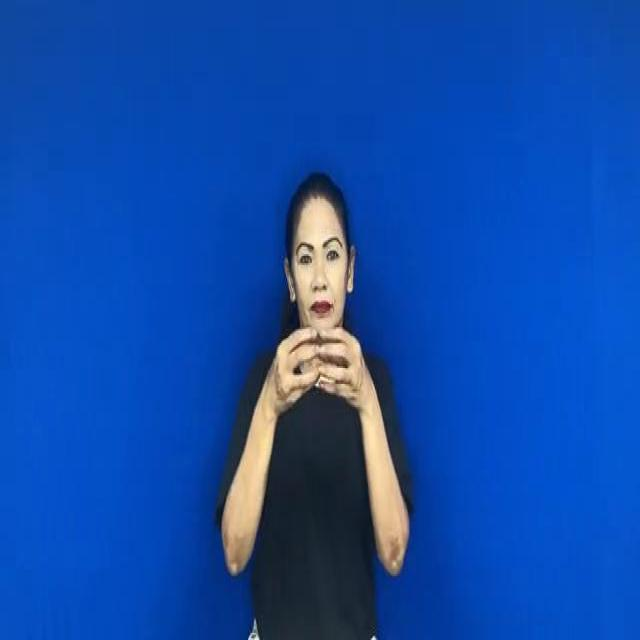egg: (260, 314, 373, 422)
